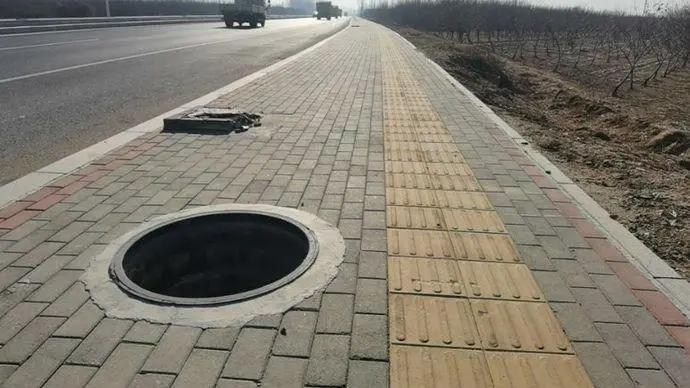wellcover: (107, 204, 326, 311)
